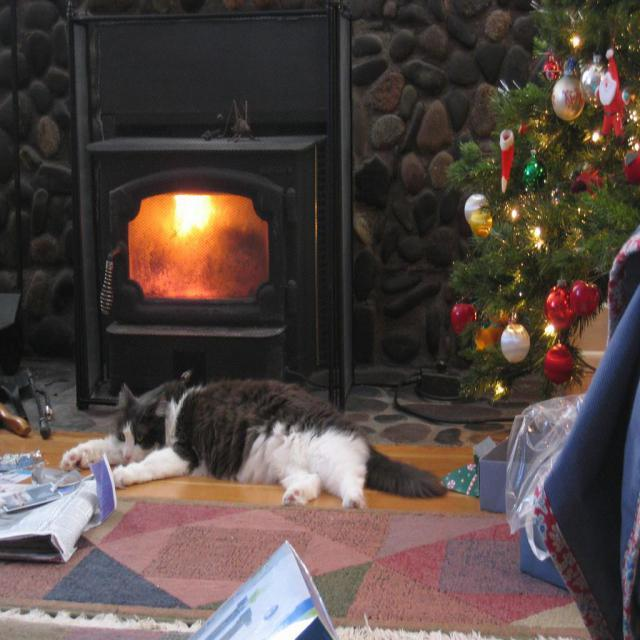Fire: (134, 190, 264, 296)
